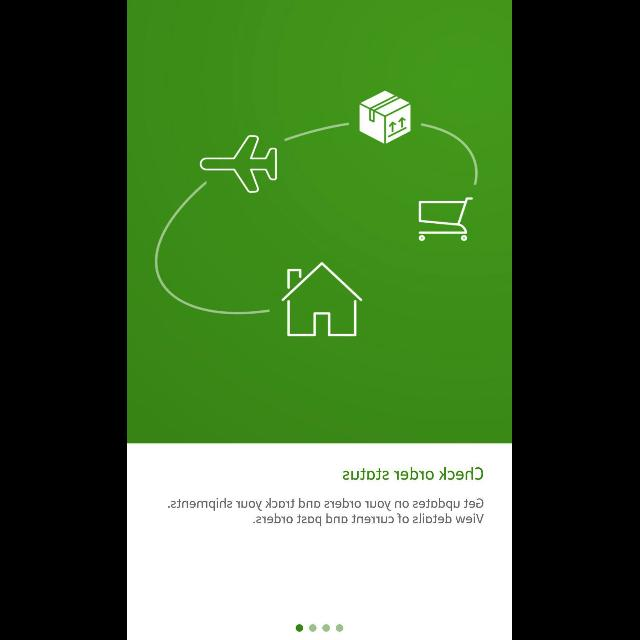image: (156, 90, 478, 338)
pageindicator: (296, 624, 344, 632)
text: (168, 498, 484, 526), (344, 467, 484, 481)
